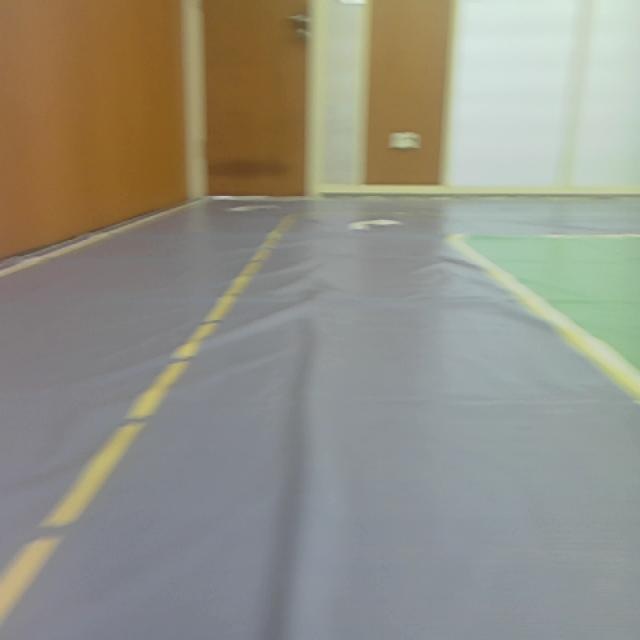left_lane: (0, 214, 296, 624)
right_lane: (446, 239, 639, 404)
